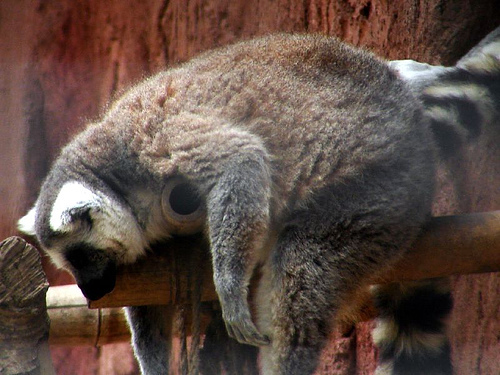cat: (13, 19, 498, 374)
